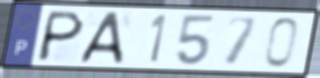0: (262, 15, 304, 70)
1: (148, 14, 169, 66)
5: (175, 14, 218, 68)
7: (222, 15, 259, 68)
A: (76, 10, 126, 65)
P: (33, 9, 87, 64)
